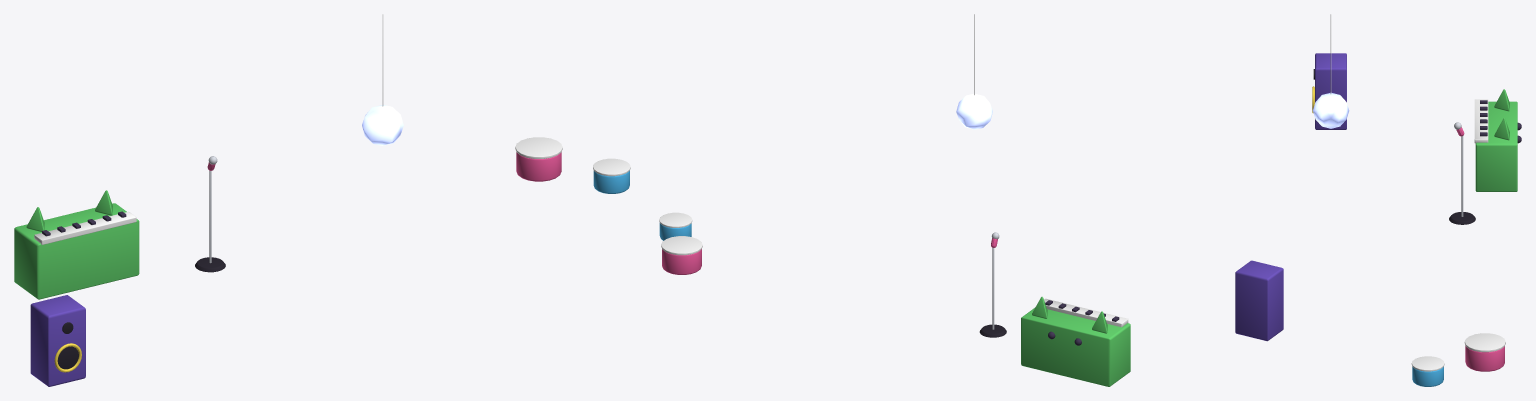
Rendered from decor-music.glb.
3 views of the same model, side by side, from view 1: azimuth 30°, elevation 25°; view 2: azimuth 150°, elevation 25°; view 3: azimuth 270°, elevation 25° (orthographic). The views are drawn at different scales.
Parts seen in each view (by area): view 1: decor-item-cat-piano-mesh, decor-item-speaker-mesh, decor-item-drum-pink-mesh, disco-ball, decor-item-drum-blue-mesh, decor-item-mic-stand-mesh; view 2: decor-item-cat-piano-mesh, decor-item-speaker-mesh, decor-item-drum-pink-mesh, disco-ball, decor-item-drum-blue-mesh, decor-item-mic-stand-mesh; view 3: decor-item-cat-piano-mesh, decor-item-speaker-mesh, decor-item-drum-pink-mesh, disco-ball, decor-item-drum-blue-mesh, decor-item-mic-stand-mesh.
Boxes of the visible parts, box(x1,y1,x2,y2) form: decor-item-cat-piano-mesh: box(14, 190, 139, 299); decor-item-speaker-mesh: box(30, 295, 85, 386); decor-item-drum-pink-mesh: box(515, 137, 562, 181); disco-ball: box(362, 105, 403, 145); decor-item-drum-blue-mesh: box(593, 158, 630, 193); decor-item-mic-stand-mesh: box(195, 156, 225, 272); decor-item-cat-piano-mesh: box(1021, 296, 1130, 386); decor-item-speaker-mesh: box(1235, 260, 1283, 341); decor-item-drum-pink-mesh: box(661, 236, 702, 274); disco-ball: box(956, 93, 992, 129); decor-item-drum-blue-mesh: box(659, 212, 692, 240); decor-item-mic-stand-mesh: box(979, 232, 1006, 337); decor-item-cat-piano-mesh: box(1474, 89, 1521, 191); decor-item-speaker-mesh: box(1312, 53, 1346, 129); decor-item-drum-pink-mesh: box(1464, 333, 1505, 371); disco-ball: box(1313, 92, 1349, 128); decor-item-drum-blue-mesh: box(1411, 356, 1444, 386); decor-item-mic-stand-mesh: box(1449, 122, 1475, 224).
Size of the model in its own units: 15.28 by 6.42 by 4.95.
